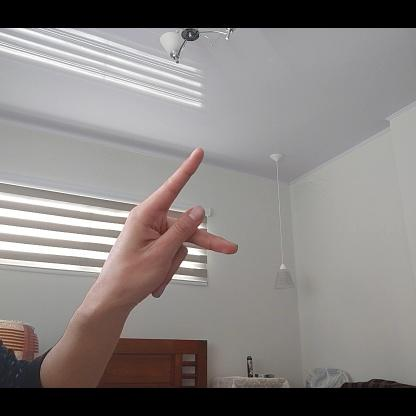K: (107, 147, 241, 315)
